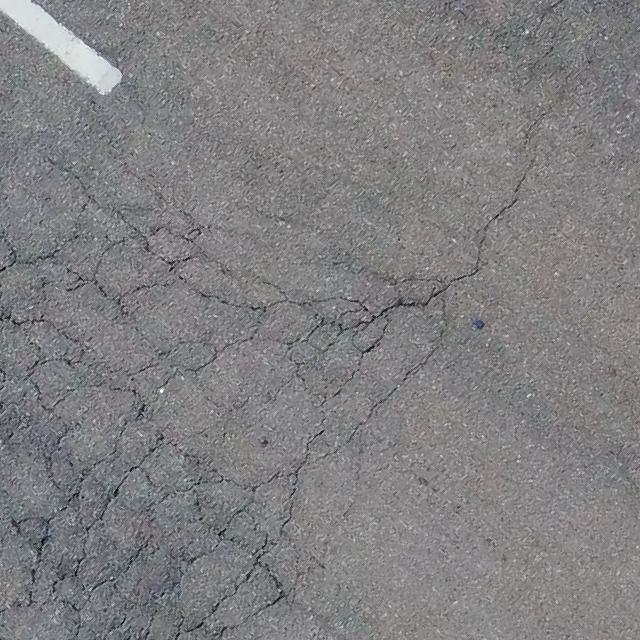GRIETA: (452, 157, 535, 280), (47, 157, 91, 197), (523, 108, 551, 146)
PIEL DE COCODRILO: (0, 179, 461, 639)
